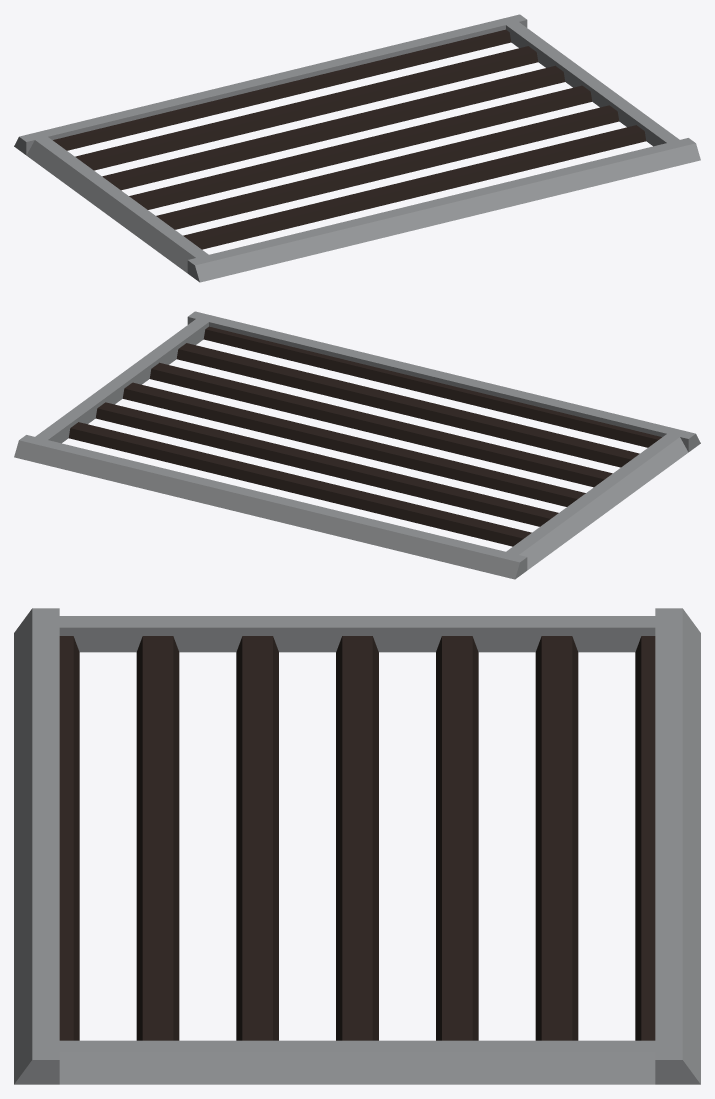
File: FN_Mat_Scraper.glb
3 views of the same model, one above another, from view 1: azimuth 30°, elevation 25°; view 2: azimuth 150°, elevation 25°; view 3: azimuth 270°, elevation 25° (orthographic). The views are drawn at different scales.
Visible parts, largest first — view 1: FN_Mat_Scraper; view 2: FN_Mat_Scraper; view 3: FN_Mat_Scraper.
Boxes of the visible parts, bbox=[...] form: FN_Mat_Scraper: bbox=[14, 14, 700, 282]; FN_Mat_Scraper: bbox=[14, 311, 700, 579]; FN_Mat_Scraper: bbox=[14, 608, 700, 1084].
Size of the model in its own units: 0.7 by 0.018 by 0.45.
Materials: 1 (1 with a texture image).
